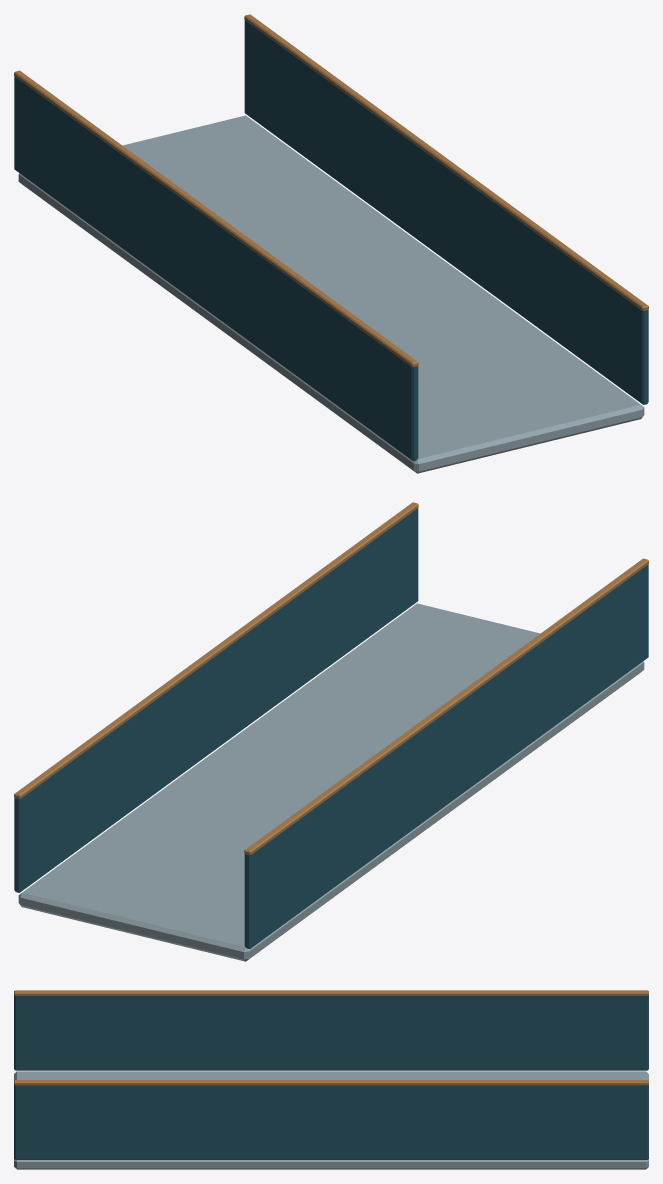
Rendered from bridge.lod0.glb.
The picture shows the model from 3 angles, top to bottom: view 1: azimuth 30°, elevation 25°; view 2: azimuth 150°, elevation 25°; view 3: azimuth 270°, elevation 25°; orthographic projection. The views are drawn at different scales.
Visible parts, largest first — view 1: structure; view 2: structure; view 3: structure.
Boxes of the visible parts, <box> form: structure: <box>14,14,648,473</box>; structure: <box>14,502,648,961</box>; structure: <box>14,990,648,1169</box>.
Size of the model in its own units: 4.12 by 1.88 by 12.
